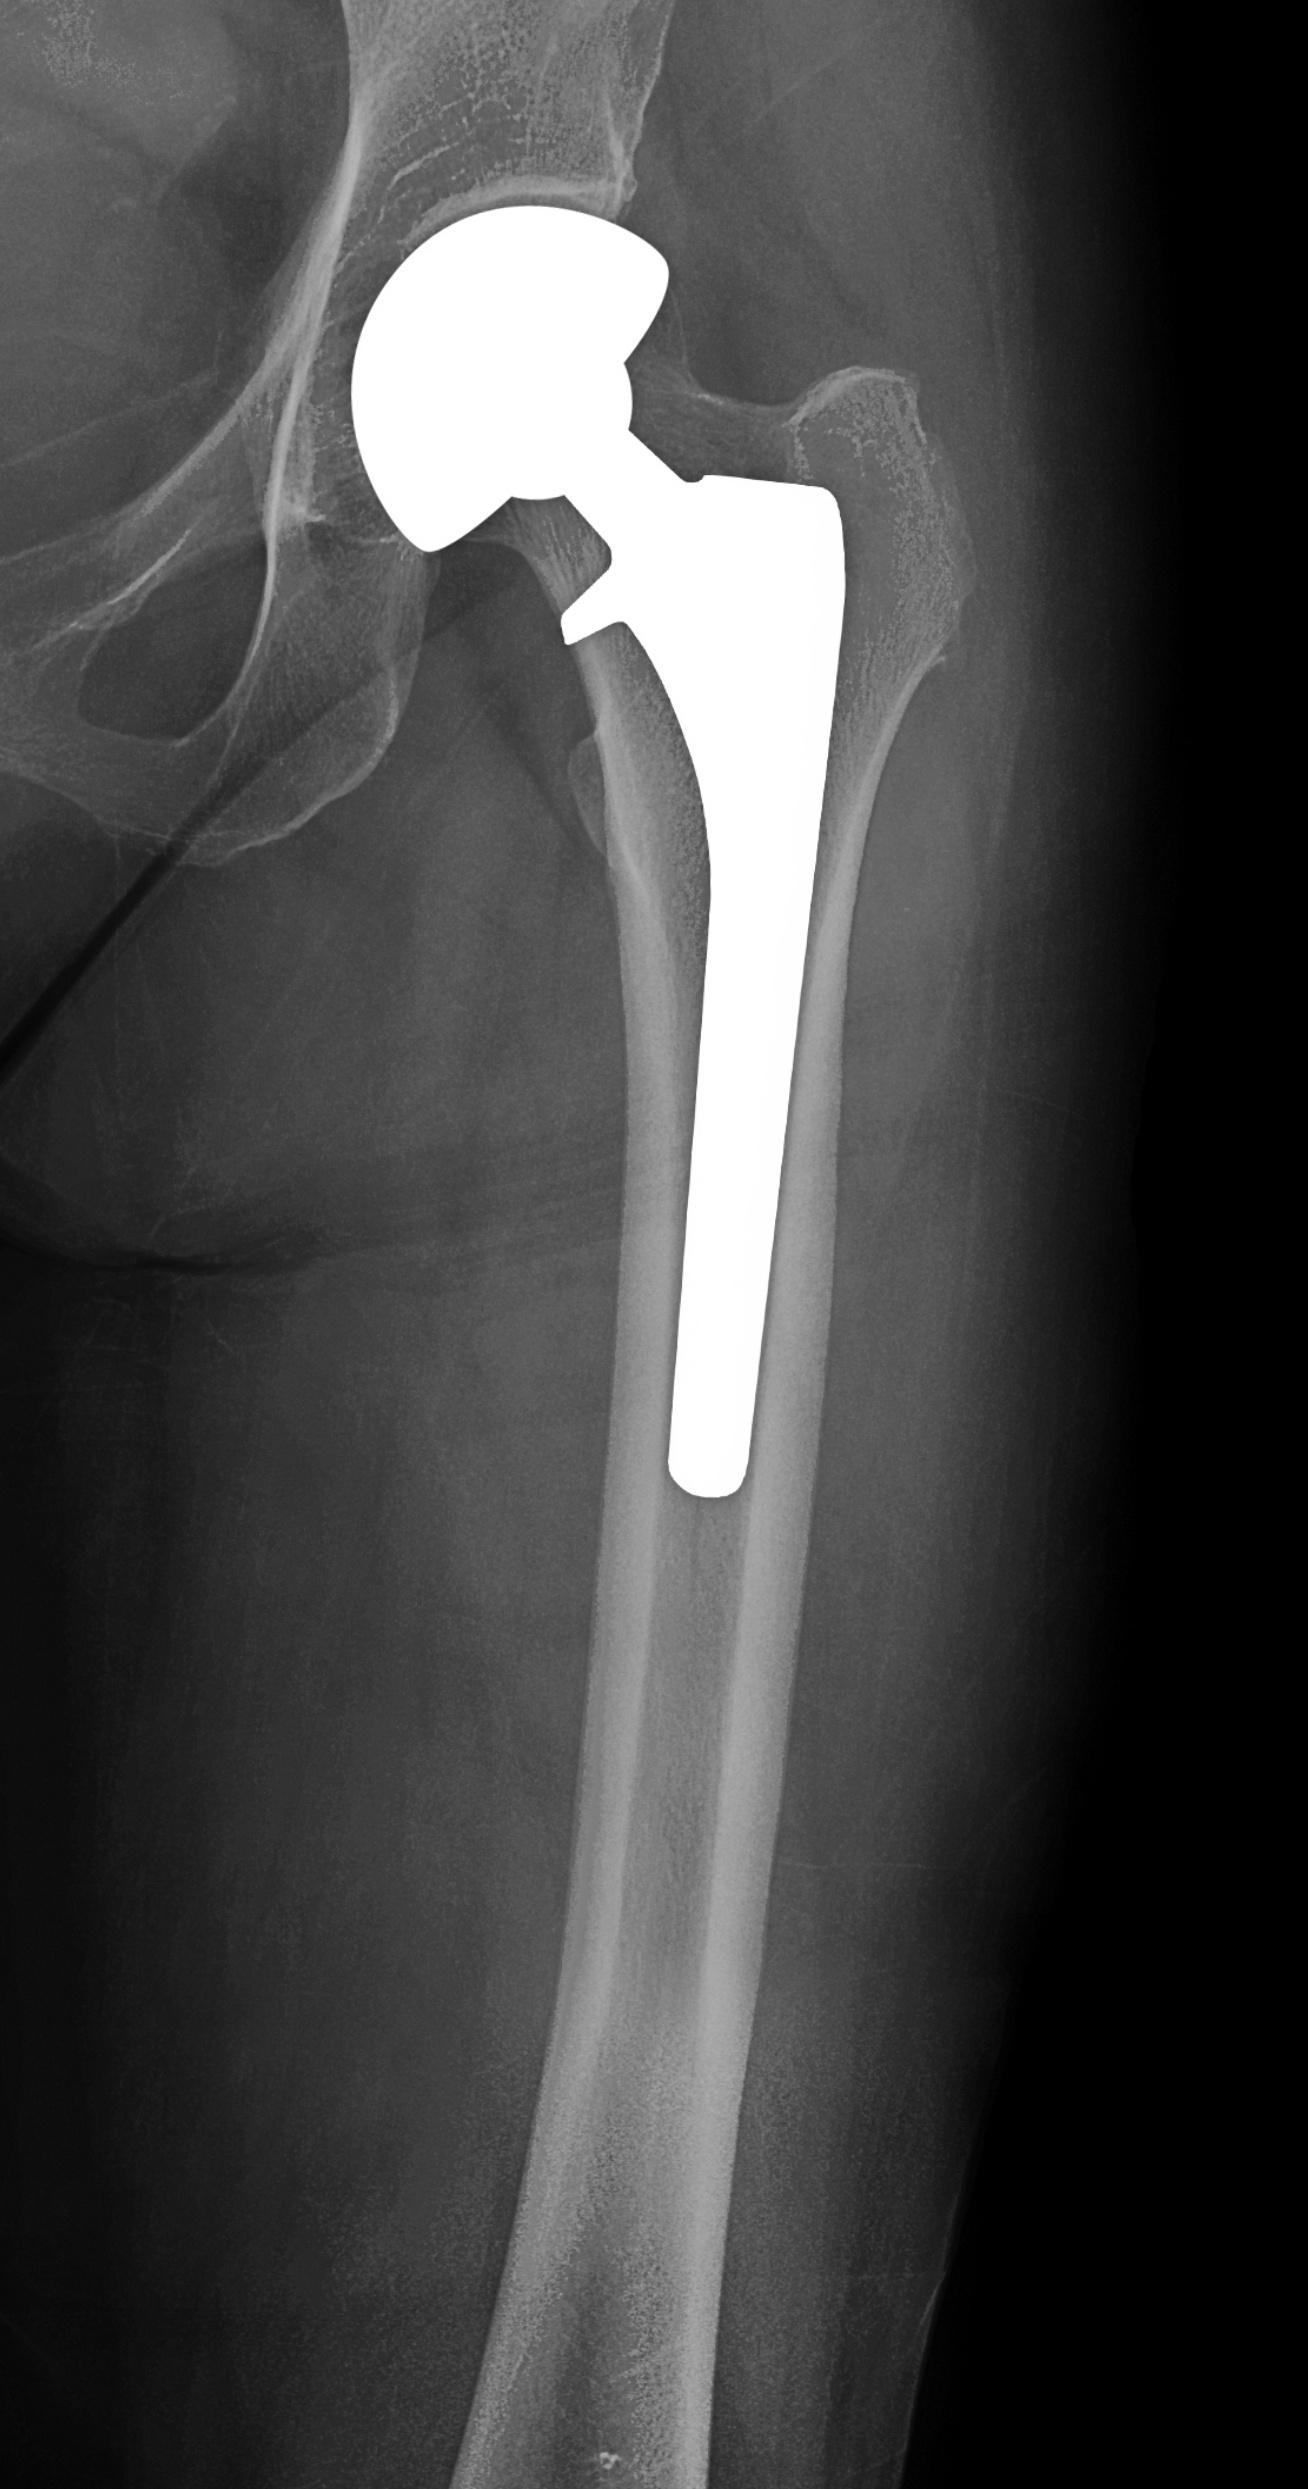Hip - APR - Zimmer: (339, 176, 874, 1518)
